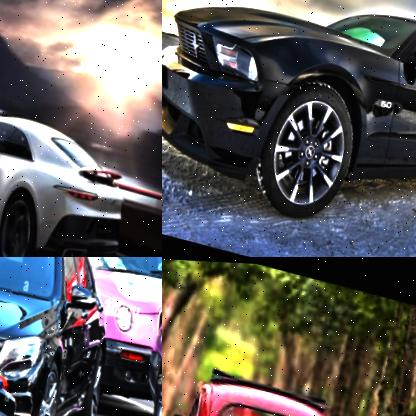car: (162, 0, 416, 233), (0, 86, 138, 257), (0, 257, 134, 416), (162, 352, 372, 416)
